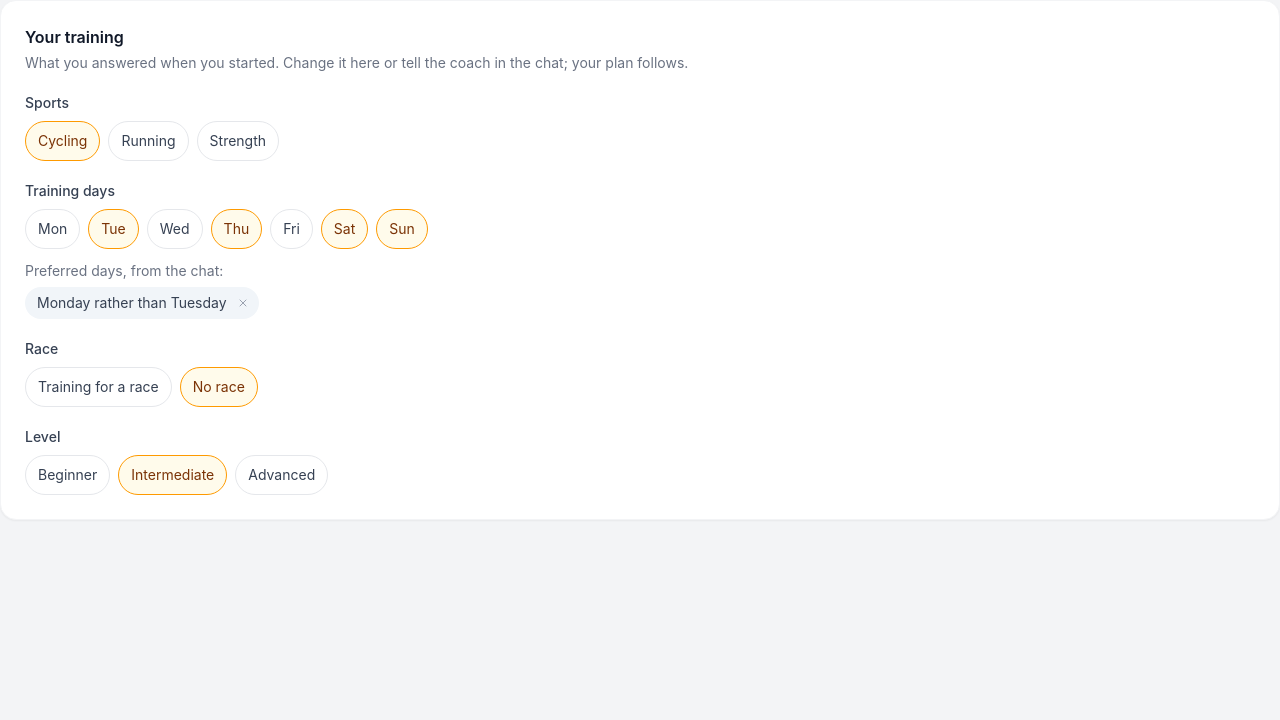
Scenario: TrainingAnswersSettings (ai-trainer-ops#202) › lists the preferred days the chat kept, and drops one (ai-trainer-ops#204)
This screenshot has width=1280, height=720.
Expected: the list item "Monday rather than Tuesday" is shown, top-left (25, 287), bottom-right (259, 319)
Click the button named "Remove Monday rather than Tuesday". click: (243, 303)
box: top-left (231, 291), bottom-right (255, 315)
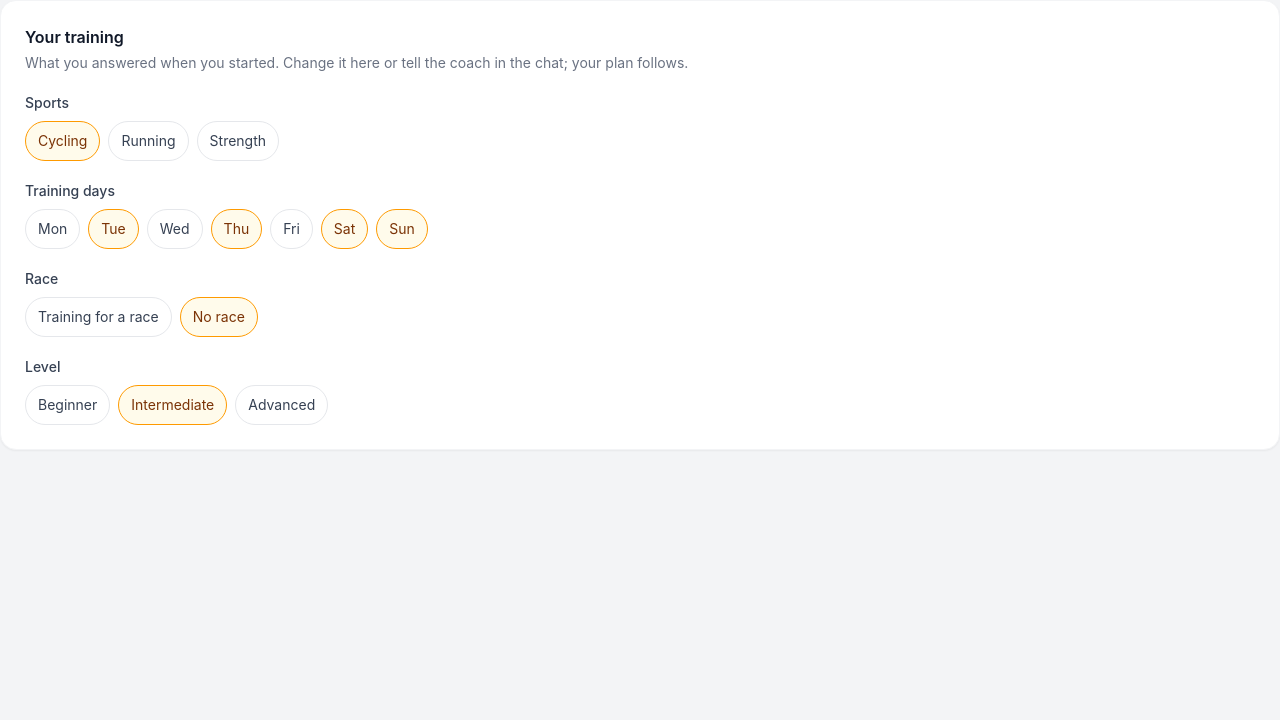
Now the list item "Monday rather than Tuesday" is gone
